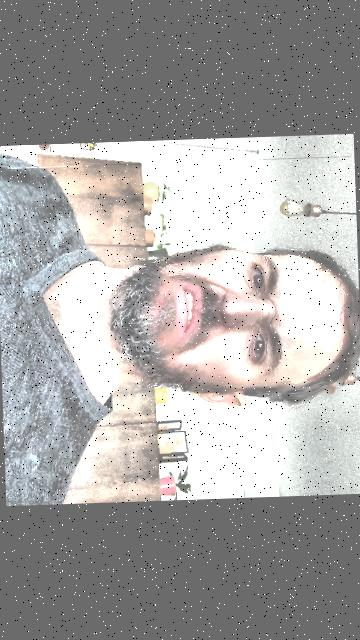disgust: (107, 229, 360, 417)
